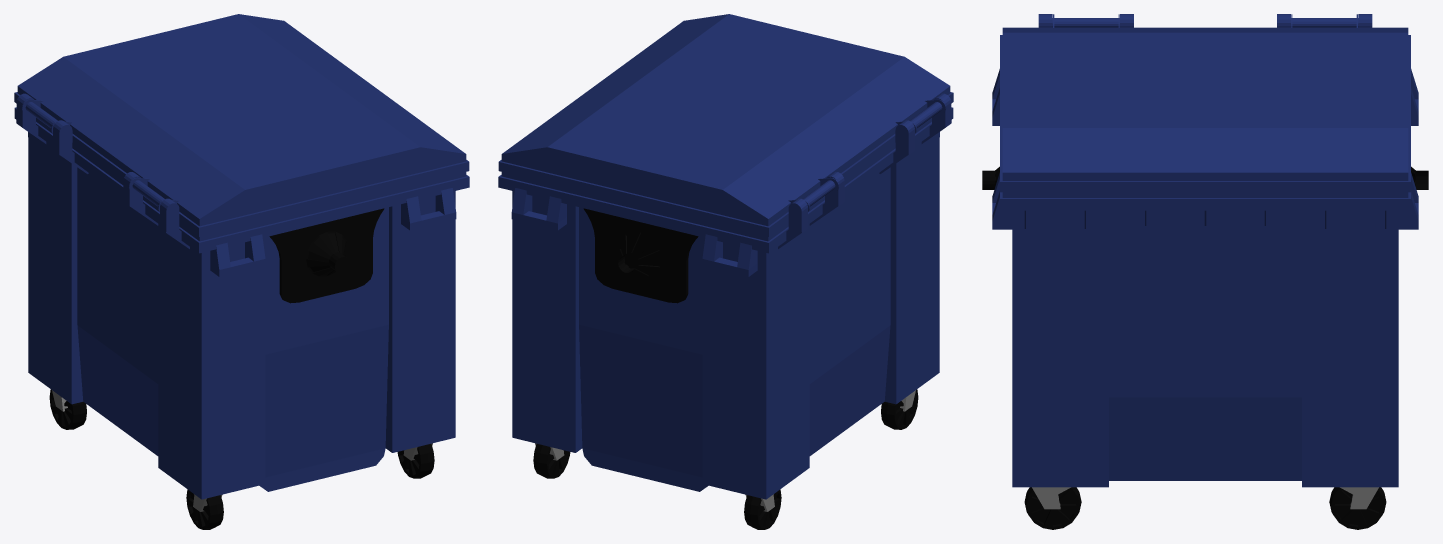
File: BinXL.fbx
3 renders of one model, left to right at view 1: azimuth 30°, elevation 25°; view 2: azimuth 150°, elevation 25°; view 3: azimuth 270°, elevation 25°, orthographic. The views are drawn at different scales.
Visible parts, largest first — view 1: BinXL; view 2: BinXL; view 3: BinXL.
Part boxes in pixels (x1,y1,x2,y2): BinXL: [14, 14, 469, 529]; BinXL: [498, 14, 953, 529]; BinXL: [982, 14, 1428, 529].
Bounding box in the file's own units: 150 × 124 × 145.
